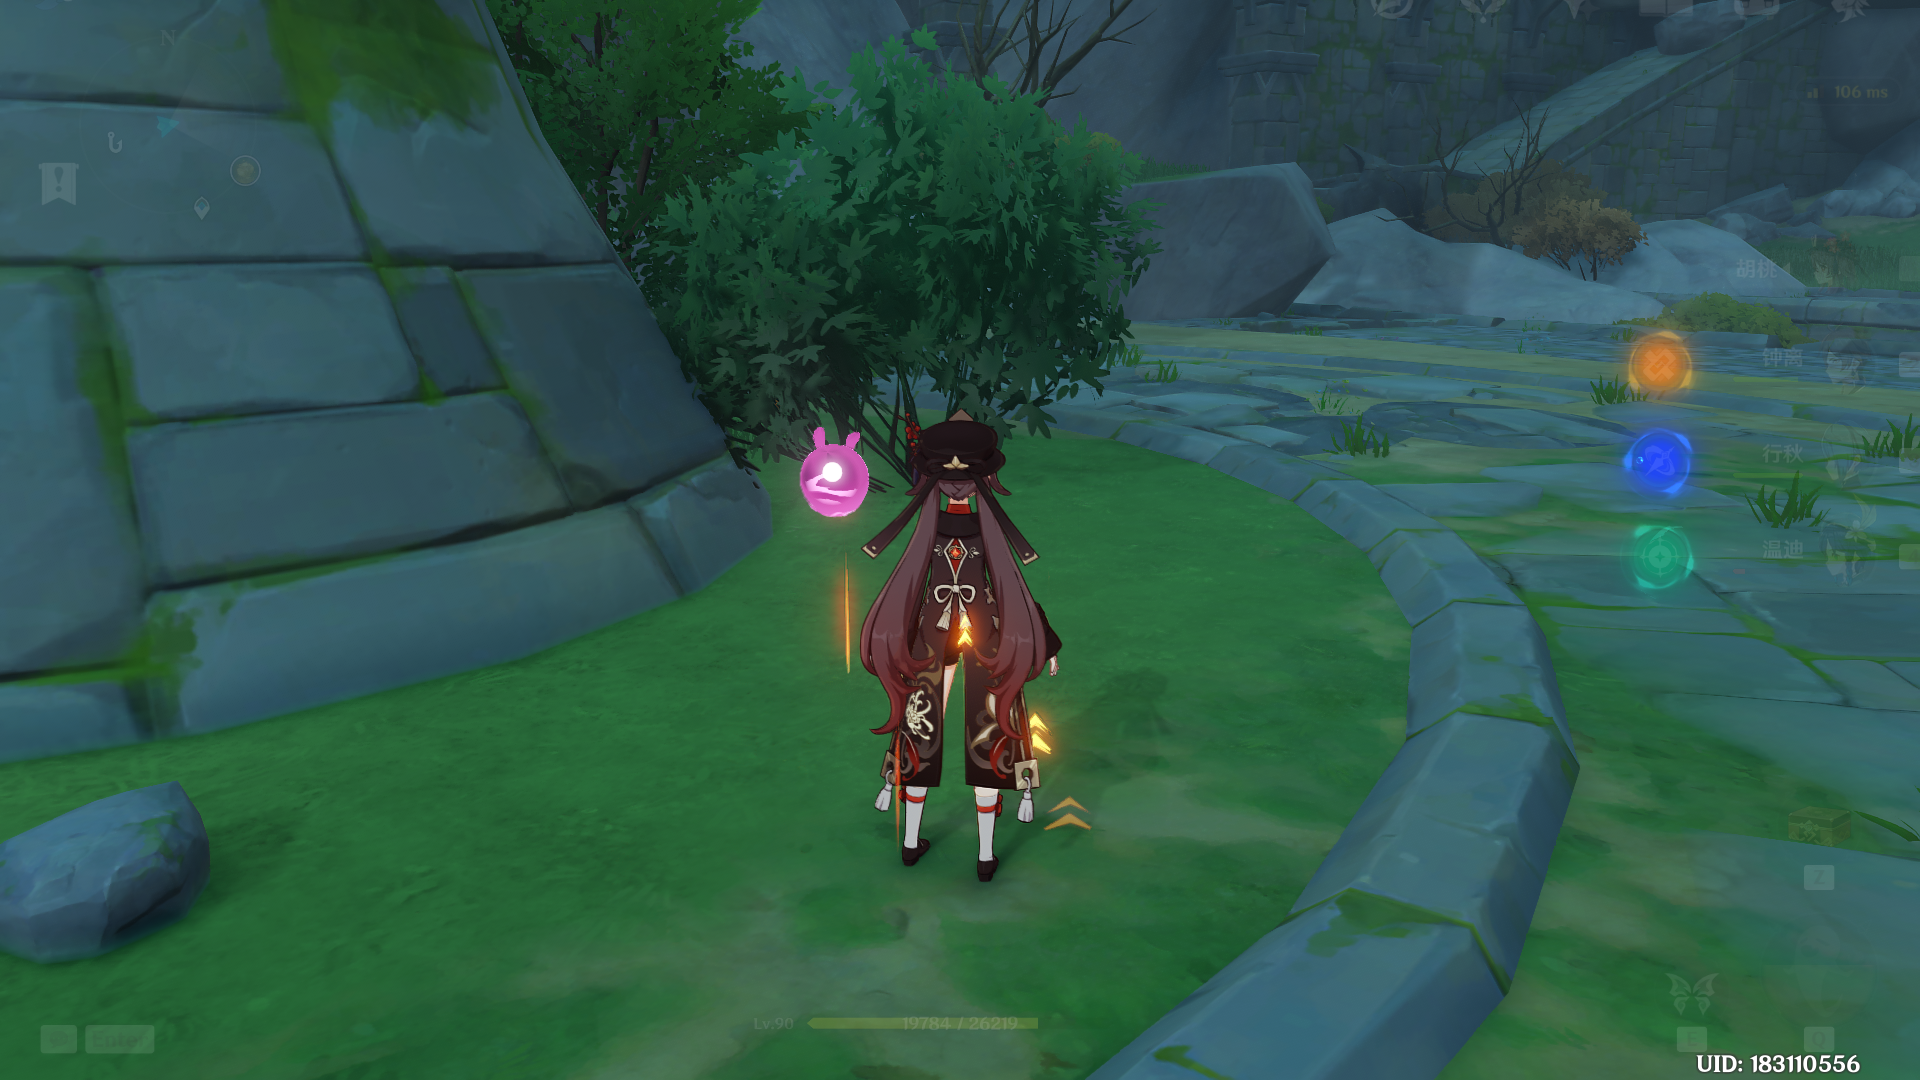character: (789, 402, 1129, 920)
